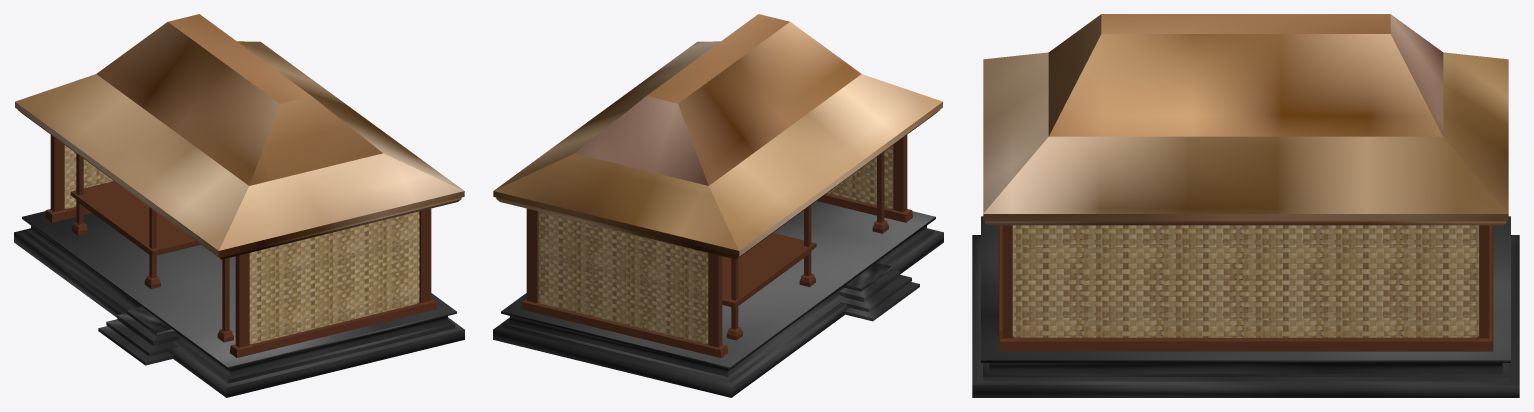
Rendered from Bangunan Bale Dangin.fbx.
3 views of the same model, side by side, from view 1: azimuth 30°, elevation 25°; view 2: azimuth 150°, elevation 25°; view 3: azimuth 270°, elevation 25° (orthographic). The views are drawn at different scales.
Parts seen in each view (by area): view 1: Atap Bale Dangin, Pondasi Bale Dangin, Dinding Bale Danging, Tiang Bale Dangin, Tiang Sekenem Bale Dangin, Tangga Bale Dangin; view 2: Atap Bale Dangin, Pondasi Bale Dangin, Dinding Bale Danging, Tiang Bale Dangin, Tiang Sekenem Bale Dangin, Tangga Bale Dangin; view 3: Atap Bale Dangin, Dinding Bale Danging, Pondasi Bale Dangin, Tiang Bale Dangin.
Part boxes in pixels (x1,y1,x2,y2): Atap Bale Dangin: (15,14,464,259); Pondasi Bale Dangin: (14,211,464,397); Dinding Bale Danging: (64,145,419,344); Tiang Bale Dangin: (45,135,436,357); Tiang Sekenem Bale Dangin: (70,153,233,342); Tangga Bale Dangin: (98,307,178,365); Atap Bale Dangin: (493,14,942,259); Pondasi Bale Dangin: (493,201,943,397); Dinding Bale Danging: (538,145,893,344); Tiang Bale Dangin: (521,135,912,357); Tiang Sekenem Bale Dangin: (722,152,888,340); Tangga Bale Dangin: (839,262,919,321); Atap Bale Dangin: (983,14,1508,225); Dinding Bale Danging: (1012,225,1479,337); Pondasi Bale Dangin: (972,216,1519,397); Tiang Bale Dangin: (998,225,1493,351).
Bounding box in the file's own units: 12.11 × 9.92 × 16.45.
